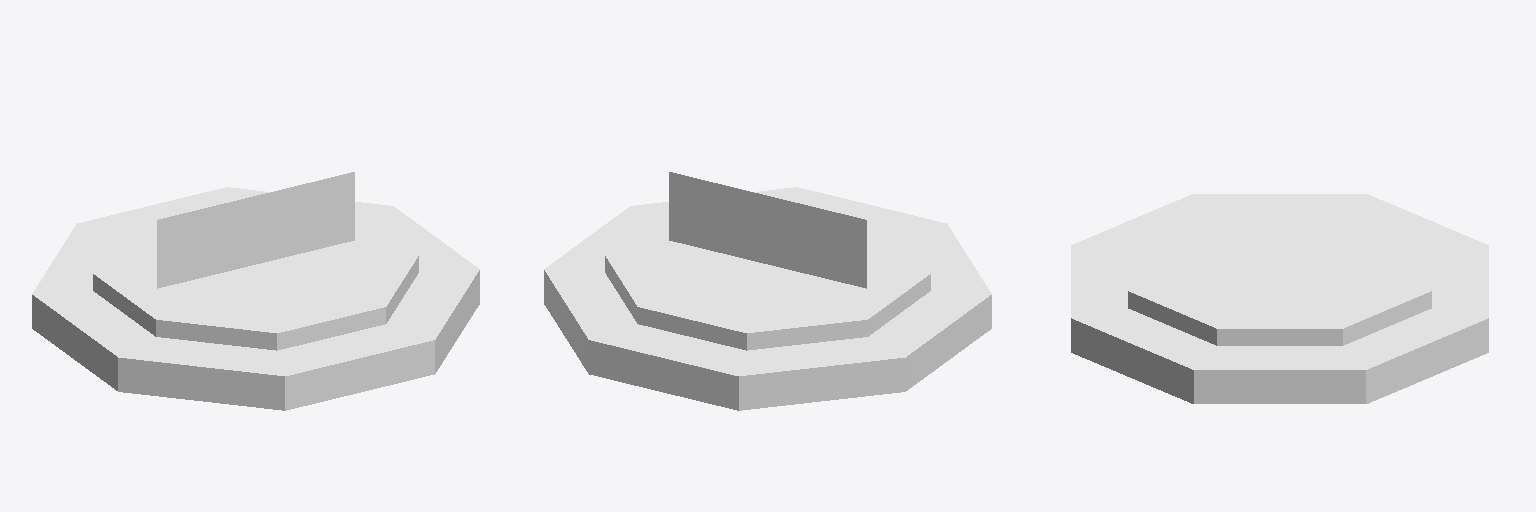
File: dolia_lid.obj
The picture shows the model from 3 angles: view 1: azimuth 30°, elevation 25°; view 2: azimuth 150°, elevation 25°; view 3: azimuth 270°, elevation 25°; orthographic projection.
Visible parts, largest first — view 1: dolia.001, handle; view 2: dolia.001, handle; view 3: dolia.001.
Part boxes in pixels (bbox=[...]): dolia.001: bbox=[32, 187, 479, 410]; handle: bbox=[157, 172, 354, 288]; dolia.001: bbox=[544, 187, 991, 410]; handle: bbox=[669, 172, 866, 288]; dolia.001: bbox=[1071, 194, 1488, 403].
Bounding box in the file's own units: 0.6875 × 0.2188 × 0.6875.